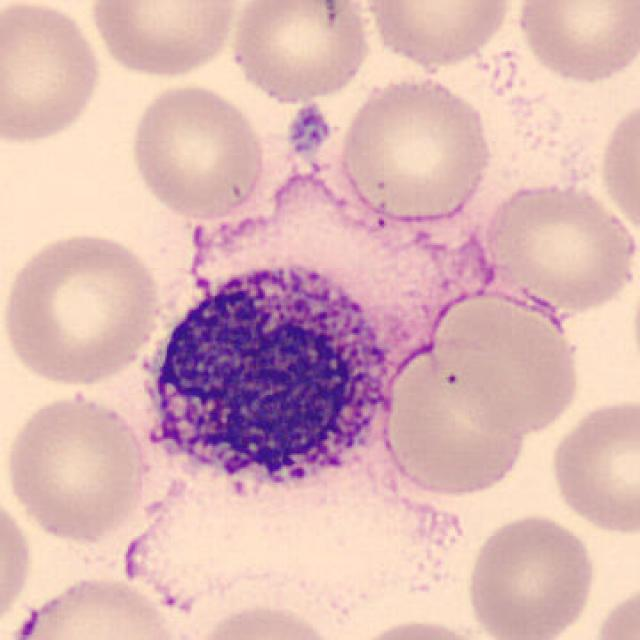Basophil: (125, 245, 407, 510)
RBC: (0, 226, 164, 390), (373, 335, 530, 501), (336, 70, 496, 224), (0, 390, 155, 544), (428, 288, 585, 436), (476, 178, 638, 316), (124, 79, 268, 222), (462, 509, 599, 640), (226, 0, 377, 106), (0, 0, 105, 146), (546, 393, 638, 538), (6, 573, 196, 640), (85, 0, 242, 81), (361, 0, 517, 71), (512, 0, 638, 85), (595, 91, 640, 248), (185, 599, 347, 640), (0, 486, 36, 636), (343, 615, 498, 640), (587, 578, 638, 640)
